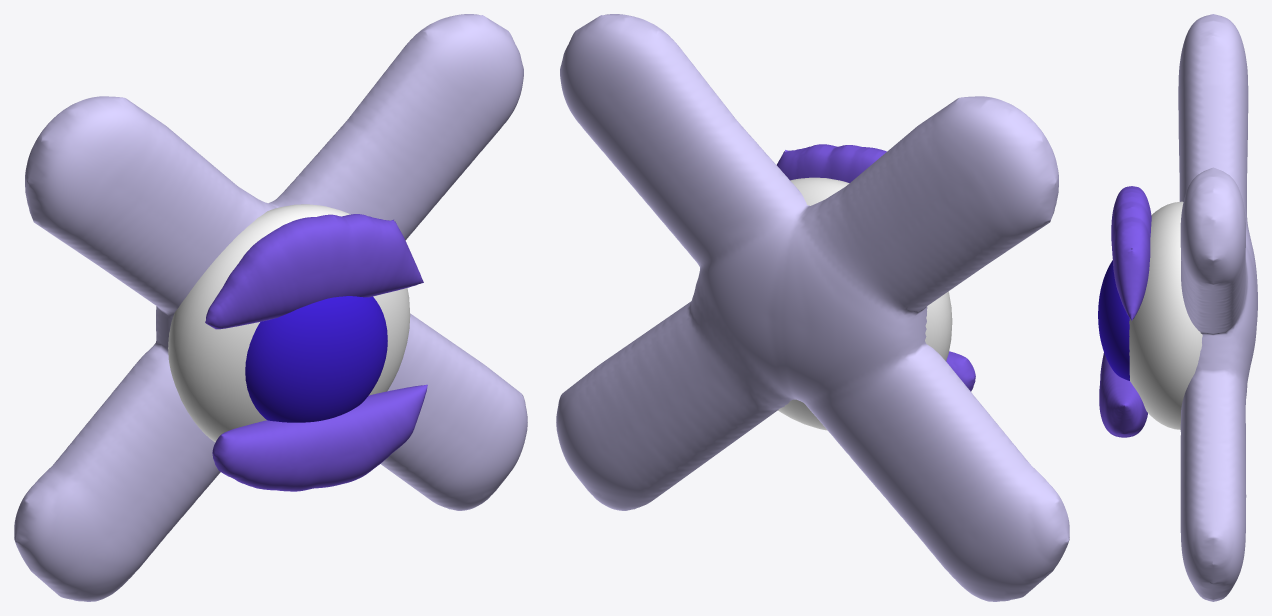
The picture shows the model from 3 angles, left to right: view 1: azimuth 30°, elevation 25°; view 2: azimuth 150°, elevation 25°; view 3: azimuth 270°, elevation 25°; orthographic projection. The views are drawn at different scales.
Visible parts, largest first — view 1: root_Material_44_0, root_Material_58_0, root_Material_62_0, root_Material_50_0, root_Material_54_0; view 2: root_Material_44_0, root_Material_50_0, root_Material_58_0; view 3: root_Material_44_0, root_Material_50_0, root_Material_58_0, root_Material_54_0, root_Material_62_0.
Boxes of the visible parts, x1,y1,x2,y2 form: root_Material_44_0: (14,14,527,601); root_Material_58_0: (205,214,423,329); root_Material_62_0: (245,296,387,422); root_Material_50_0: (168,204,410,442); root_Material_54_0: (212,384,427,491); root_Material_44_0: (556,14,1069,601); root_Material_50_0: (778,177,952,430); root_Material_58_0: (777,144,886,182); root_Material_44_0: (1178,14,1257,601); root_Material_50_0: (1129,201,1202,429); root_Material_58_0: (1111,186,1151,320); root_Material_54_0: (1099,353,1147,437); root_Material_62_0: (1098,260,1129,380).
Bounding box in the file's own units: 0.00399 × 0.00374 × 0.00127.
5 materials, 1 textured.
